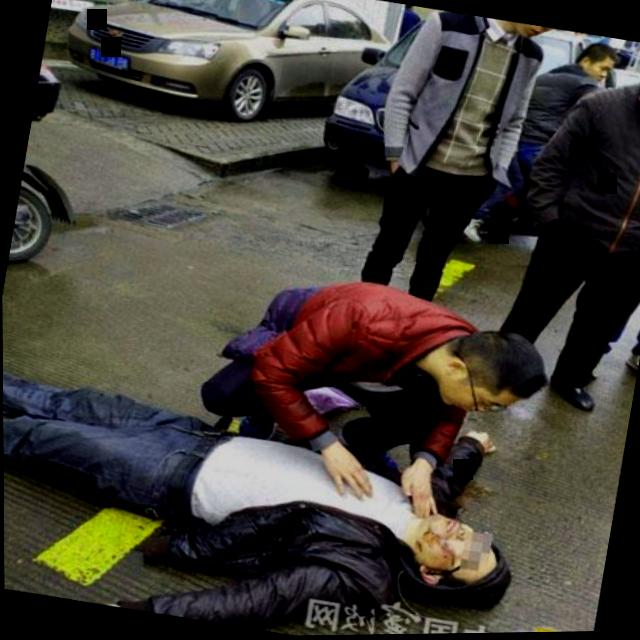Fall-Detected: (2, 316, 567, 640)
